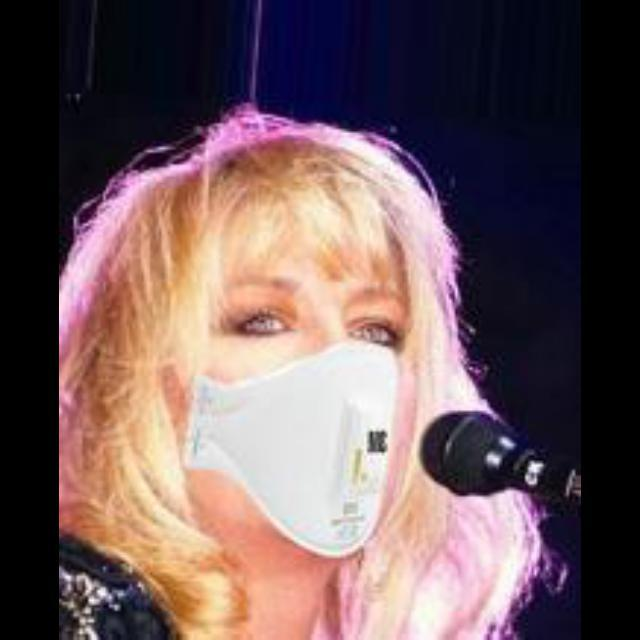suspicion: (169, 141, 409, 587)
